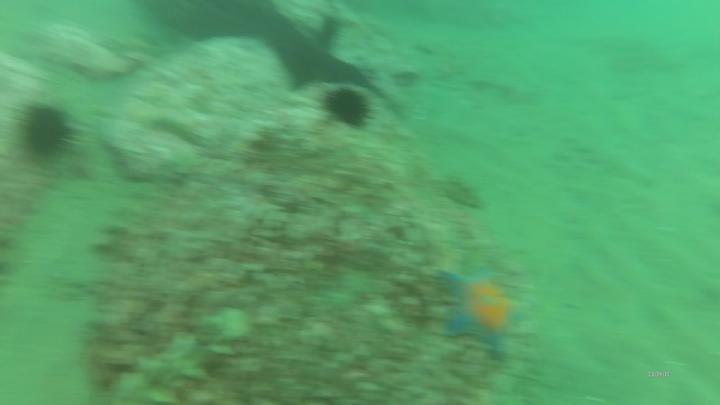echinus: (19, 98, 83, 166), (324, 81, 377, 132)
holothurian: (108, 307, 250, 405)
starfish: (437, 262, 530, 357)
